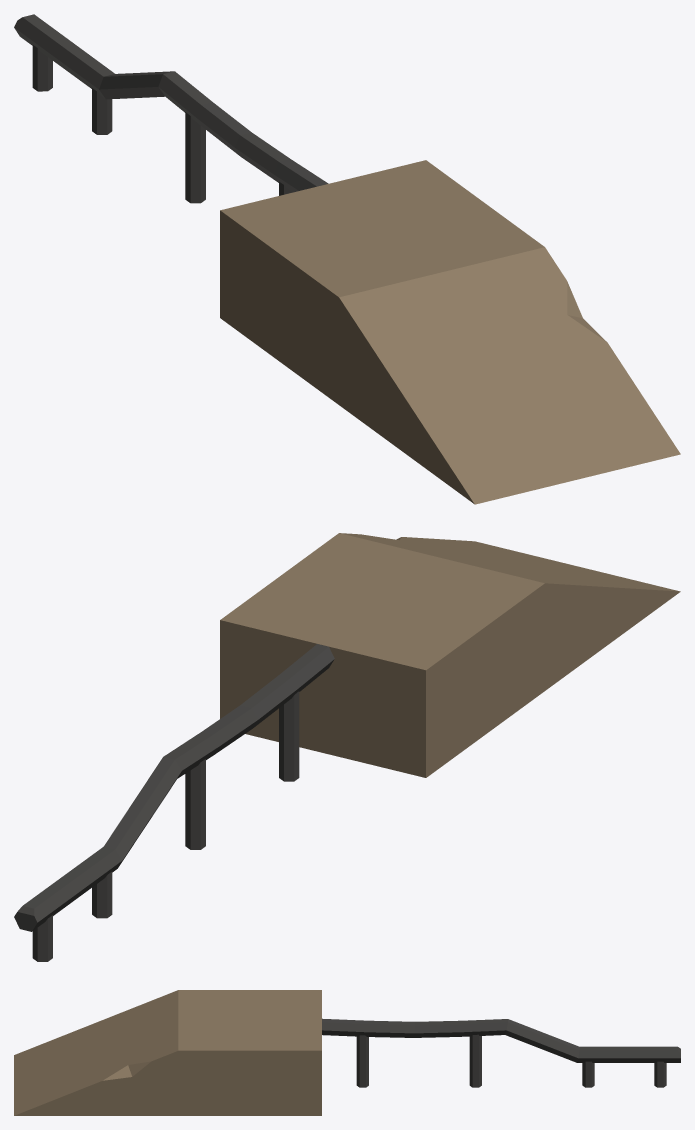
File: SM_Props_City_PlayGround_Skatepark_KinkedRail_03.fbx
3 views of the same model, one above another, from view 1: azimuth 30°, elevation 25°; view 2: azimuth 150°, elevation 25°; view 3: azimuth 270°, elevation 25° (orthographic). The views are drawn at different scales.
Parts seen in each view (by area): view 1: SM_Props_City_PlayGround_Skatepark_KinkedRail_03; view 2: SM_Props_City_PlayGround_Skatepark_KinkedRail_03; view 3: SM_Props_City_PlayGround_Skatepark_KinkedRail_03.
Boxes of the visible parts, <box> form: SM_Props_City_PlayGround_Skatepark_KinkedRail_03: <box>14,14,680,504</box>; SM_Props_City_PlayGround_Skatepark_KinkedRail_03: <box>14,533,680,961</box>; SM_Props_City_PlayGround_Skatepark_KinkedRail_03: <box>14,990,680,1115</box>.
Bounding box in the file's own units: 140 × 70 × 650.
